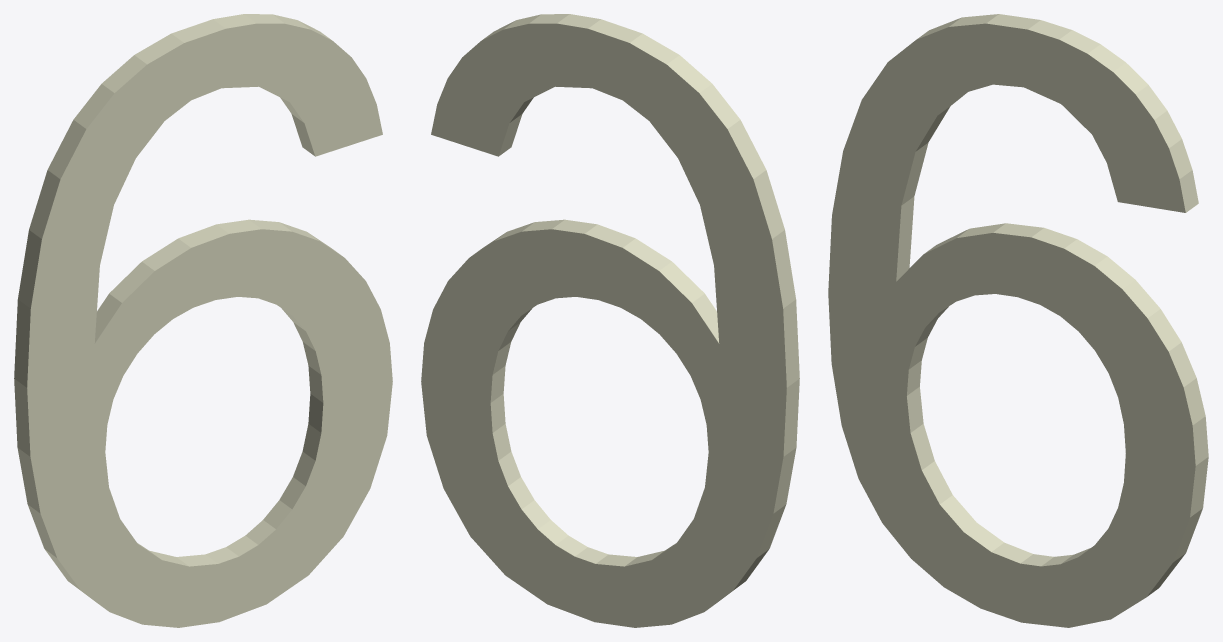
The model's file is original-97.obj.
3 renders of one model, left to right at view 1: azimuth 30°, elevation 25°; view 2: azimuth 150°, elevation 25°; view 3: azimuth 330°, elevation 25°, orthographic.
Visible parts, largest first — view 1: _6_1/_6/mesh137/mesh137-geometry#mesh137-geometry; view 2: _6_1/_6/mesh137/mesh137-geometry#mesh137-geometry; view 3: _6_1/_6/mesh137/mesh137-geometry#mesh137-geometry.
Boxes of the visible parts, box(x1,y1,x2,y2) form: _6_1/_6/mesh137/mesh137-geometry#mesh137-geometry: box(14, 14, 392, 627); _6_1/_6/mesh137/mesh137-geometry#mesh137-geometry: box(421, 14, 799, 627); _6_1/_6/mesh137/mesh137-geometry#mesh137-geometry: box(828, 14, 1208, 627).
Size of the model in its own units: 0.0366 by 0.0565 by 0.00225.
